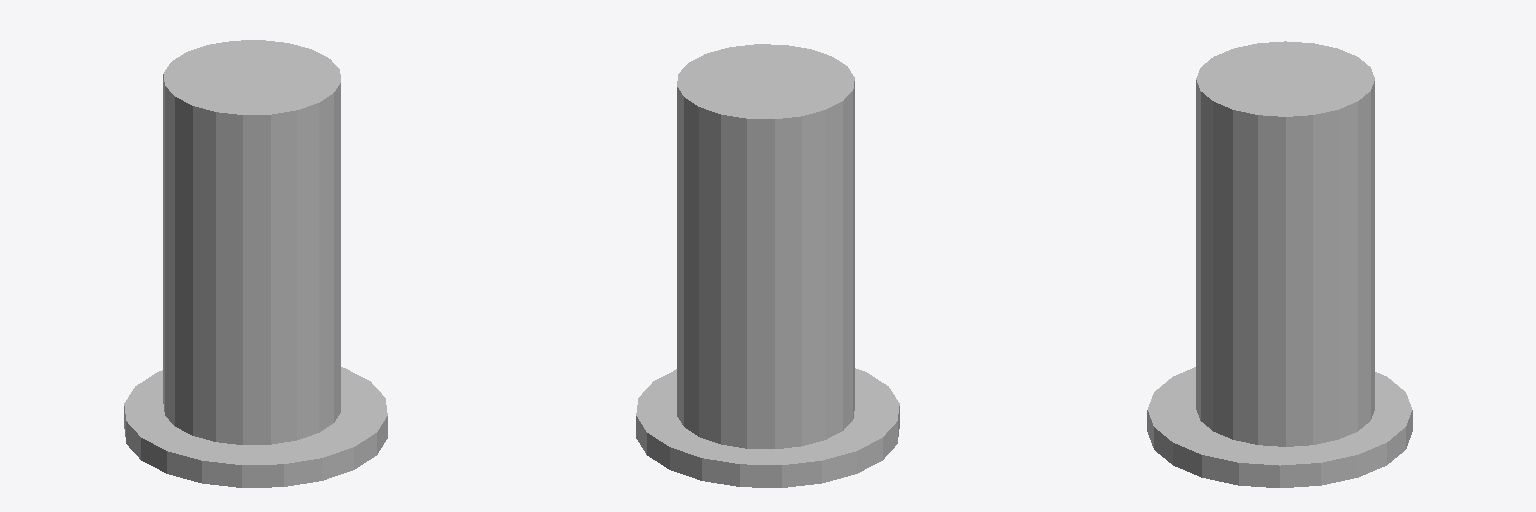
Rendered from baseSilla3.obj.
The picture shows the model from 3 angles: view 1: azimuth 30°, elevation 25°; view 2: azimuth 150°, elevation 25°; view 3: azimuth 270°, elevation 25°; orthographic projection.
Parts seen in each view (by area): view 1: polySurface28 tablerocontrol:polySurface11, tablerocontrol:polySurface12 polySurface28; view 2: polySurface28 tablerocontrol:polySurface11, tablerocontrol:polySurface12 polySurface28; view 3: polySurface28 tablerocontrol:polySurface11, tablerocontrol:polySurface12 polySurface28.
Part boxes in pixels (x1,y1,x2,y2): polySurface28 tablerocontrol:polySurface11: (163,40,340,444); tablerocontrol:polySurface12 polySurface28: (124,367,387,487); polySurface28 tablerocontrol:polySurface11: (677,44,854,448); tablerocontrol:polySurface12 polySurface28: (636,368,899,487); polySurface28 tablerocontrol:polySurface11: (1196,41,1374,446); tablerocontrol:polySurface12 polySurface28: (1147,367,1412,487).
Bounding box in the file's own units: 0.0601 × 0.0883 × 0.0601.